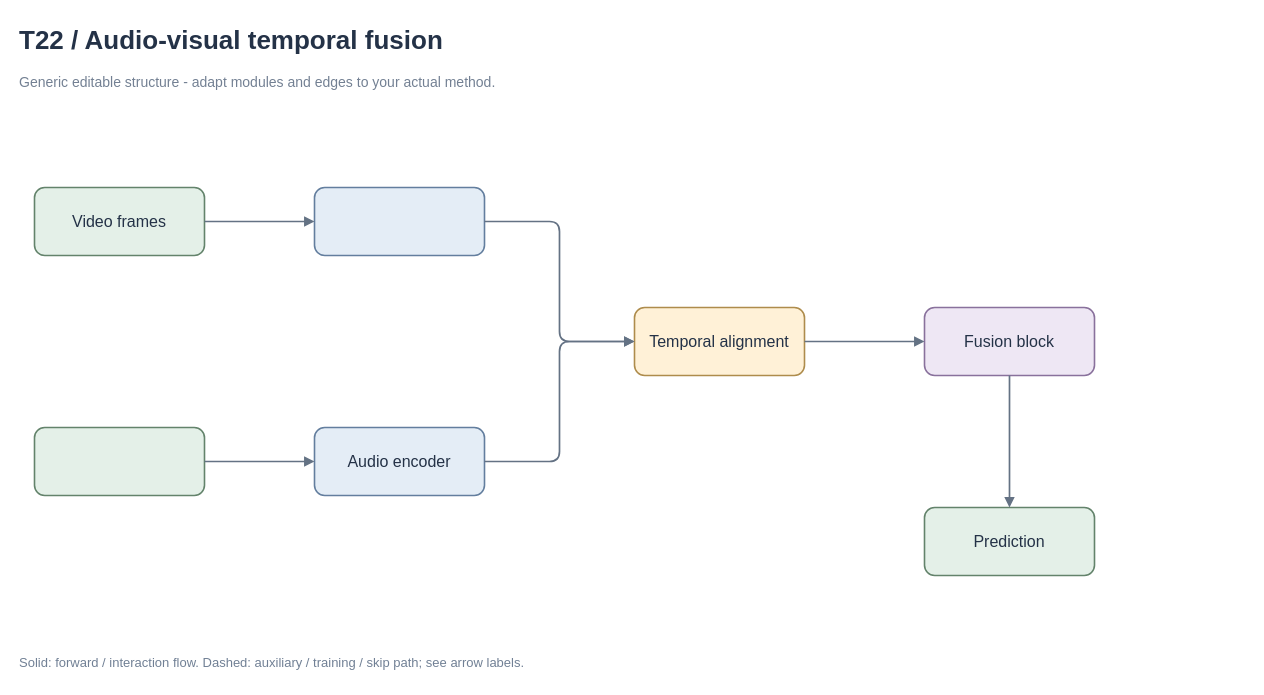
This 1264x695 diagram has some shape labels left out. Here are the shapes that lost their labels. From the top down, the box of each, then its label:
(313, 186, 485, 256): Visual encoder
(33, 426, 205, 496): Audio waveform
